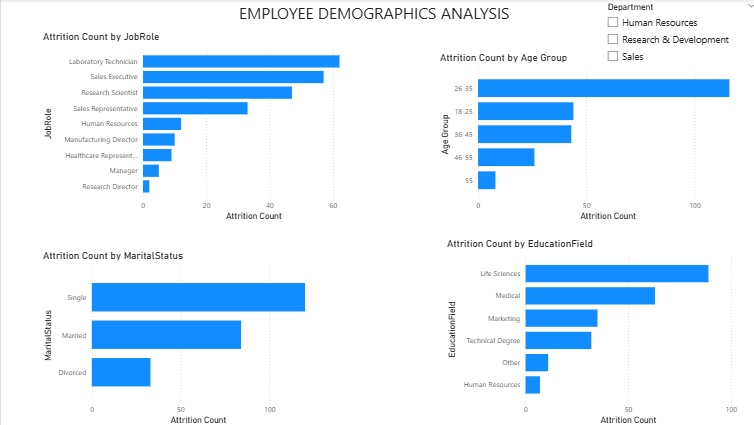

The dashboard page shown, as its layout file describes it:
{"tool":"powerbi","page":{"name":"Employee Demographics","canvas":[1280,720],"ordinal":1},"visuals":[{"type":"clusteredBarChart","fields":{"Y":["_Measures.Attrition Count"],"Category":["WA_Fn-UseC_-HR-Employee-Attrition.JobRole"]},"box":[65.5,67.2,557.7,325.9],"z":0},{"type":"clusteredBarChart","fields":{"Category":["WA_Fn-UseC_-HR-Employee-Attrition.Age Group "],"Y":["_Measures.Attrition Count"]},"box":[719,68.9,520.7,290.6],"z":1000},{"type":"clusteredBarChart","fields":{"Y":["_Measures.Attrition Count"],"Category":["WA_Fn-UseC_-HR-Employee-Attrition.MaritalStatus"]},"box":[65.5,404.8,460.3,300.7],"z":2000},{"type":"clusteredBarChart","fields":{"Category":["WA_Fn-UseC_-HR-Employee-Attrition.EducationField"],"Y":["_Measures.Attrition Count"]},"box":[757.6,384.7,497.2,320.8],"z":3001},{"type":"textbox","box":[394.8,0,520.7,67.2],"z":3002}]}

Visuals, with their boxes in screenshot pixels (x1, y1, x2, y2), scaled from the page's 1280x720 canvas onto the 754x425 screenshot:
clusteredBarChart - _Measures.Attrition Count x WA_Fn-UseC_-HR-Employee-Attrition.JobRole: box=[39, 40, 367, 232]
clusteredBarChart - WA_Fn-UseC_-HR-Employee-Attrition.Age Group  x _Measures.Attrition Count: box=[424, 41, 730, 212]
clusteredBarChart - _Measures.Attrition Count x WA_Fn-UseC_-HR-Employee-Attrition.MaritalStatus: box=[39, 239, 310, 416]
clusteredBarChart - WA_Fn-UseC_-HR-Employee-Attrition.EducationField x _Measures.Attrition Count: box=[446, 227, 739, 416]
textbox: box=[233, 0, 539, 40]
